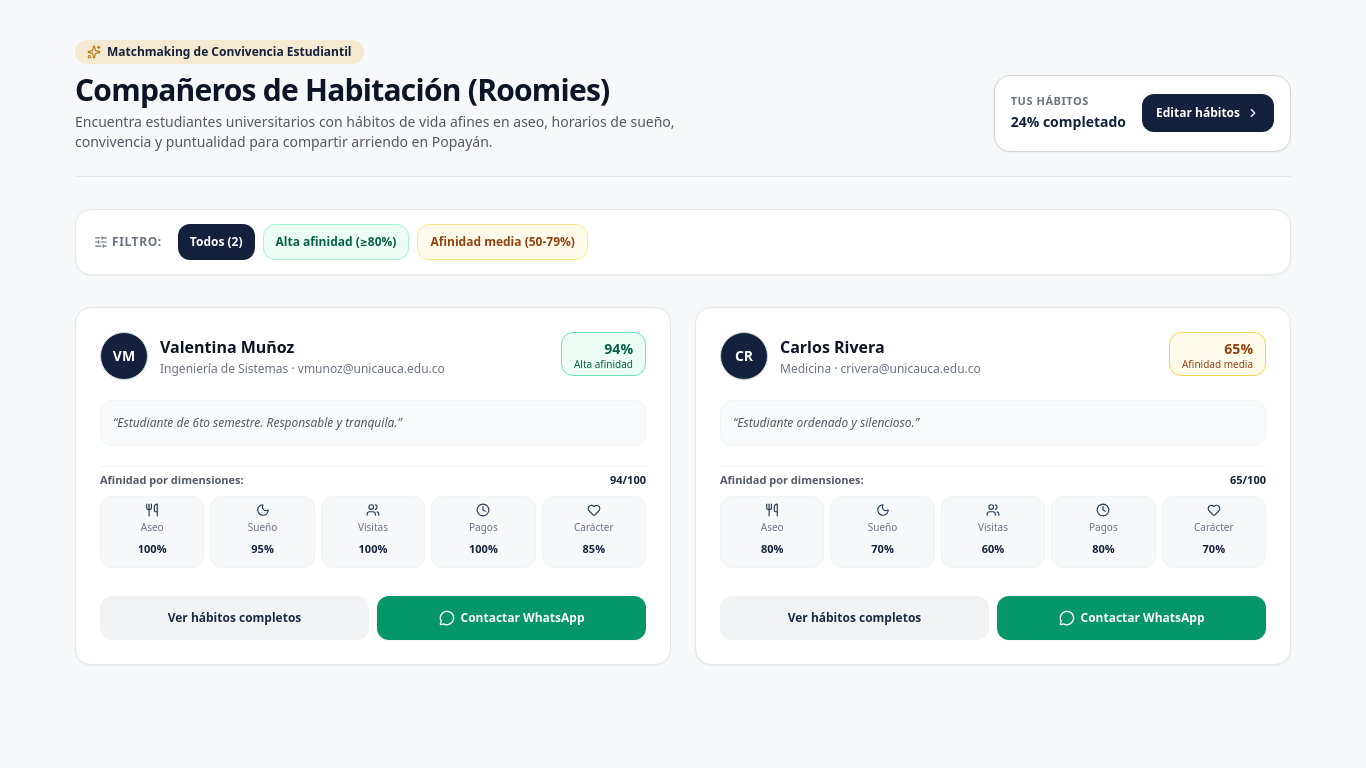
Test: Roomies page › permite filtrar por banda de afinidad
Expected: the heading "Valentina Muñoz" is shown, 160,336 -> 294,358
Expected: the heading "Carlos Rivera" is shown, 780,336 -> 885,358
Click the button "Alta afinidad (≥80%)".
click(336, 242)  # box 262,224 -> 409,260
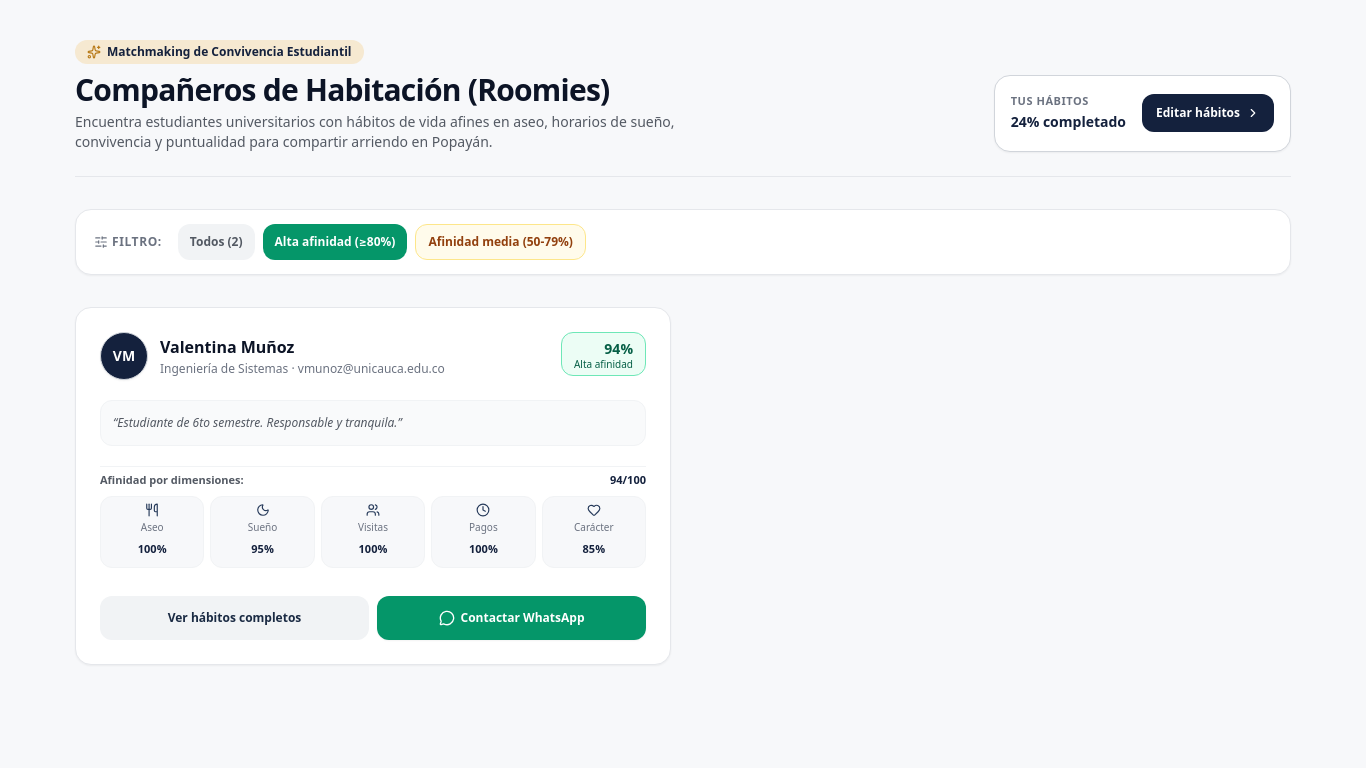
Expected: the heading "Valentina Muñoz" is shown, 160,336 -> 294,358
Expected: the heading "Carlos Rivera" is gone
Filtra afinidad media (50-79%)
Click the button "Afinidad media (50-79%)".
click(501, 242)  # box 416,224 -> 586,260
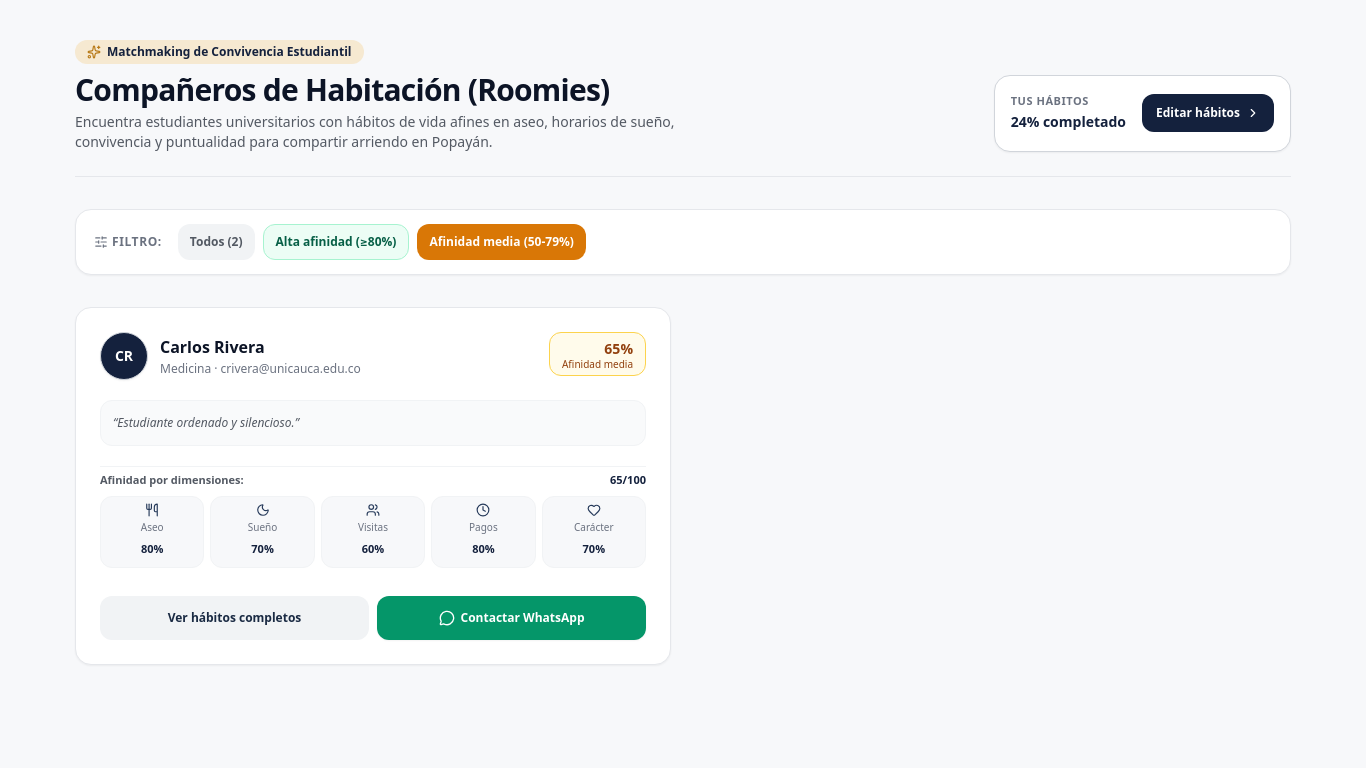
Expected: the heading "Valentina Muñoz" is gone
Expected: the heading "Carlos Rivera" is shown, 160,336 -> 265,358
